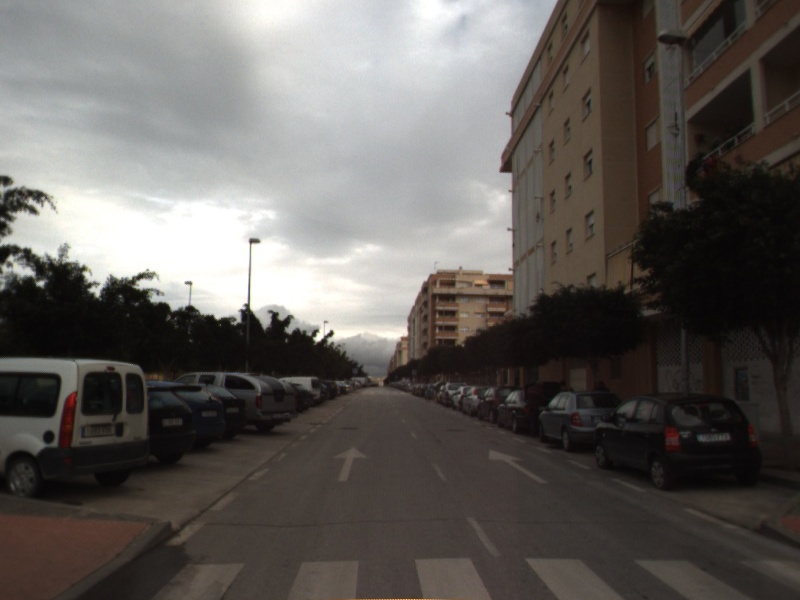STRAIGHT: (486, 447, 551, 486), (331, 444, 370, 483)
